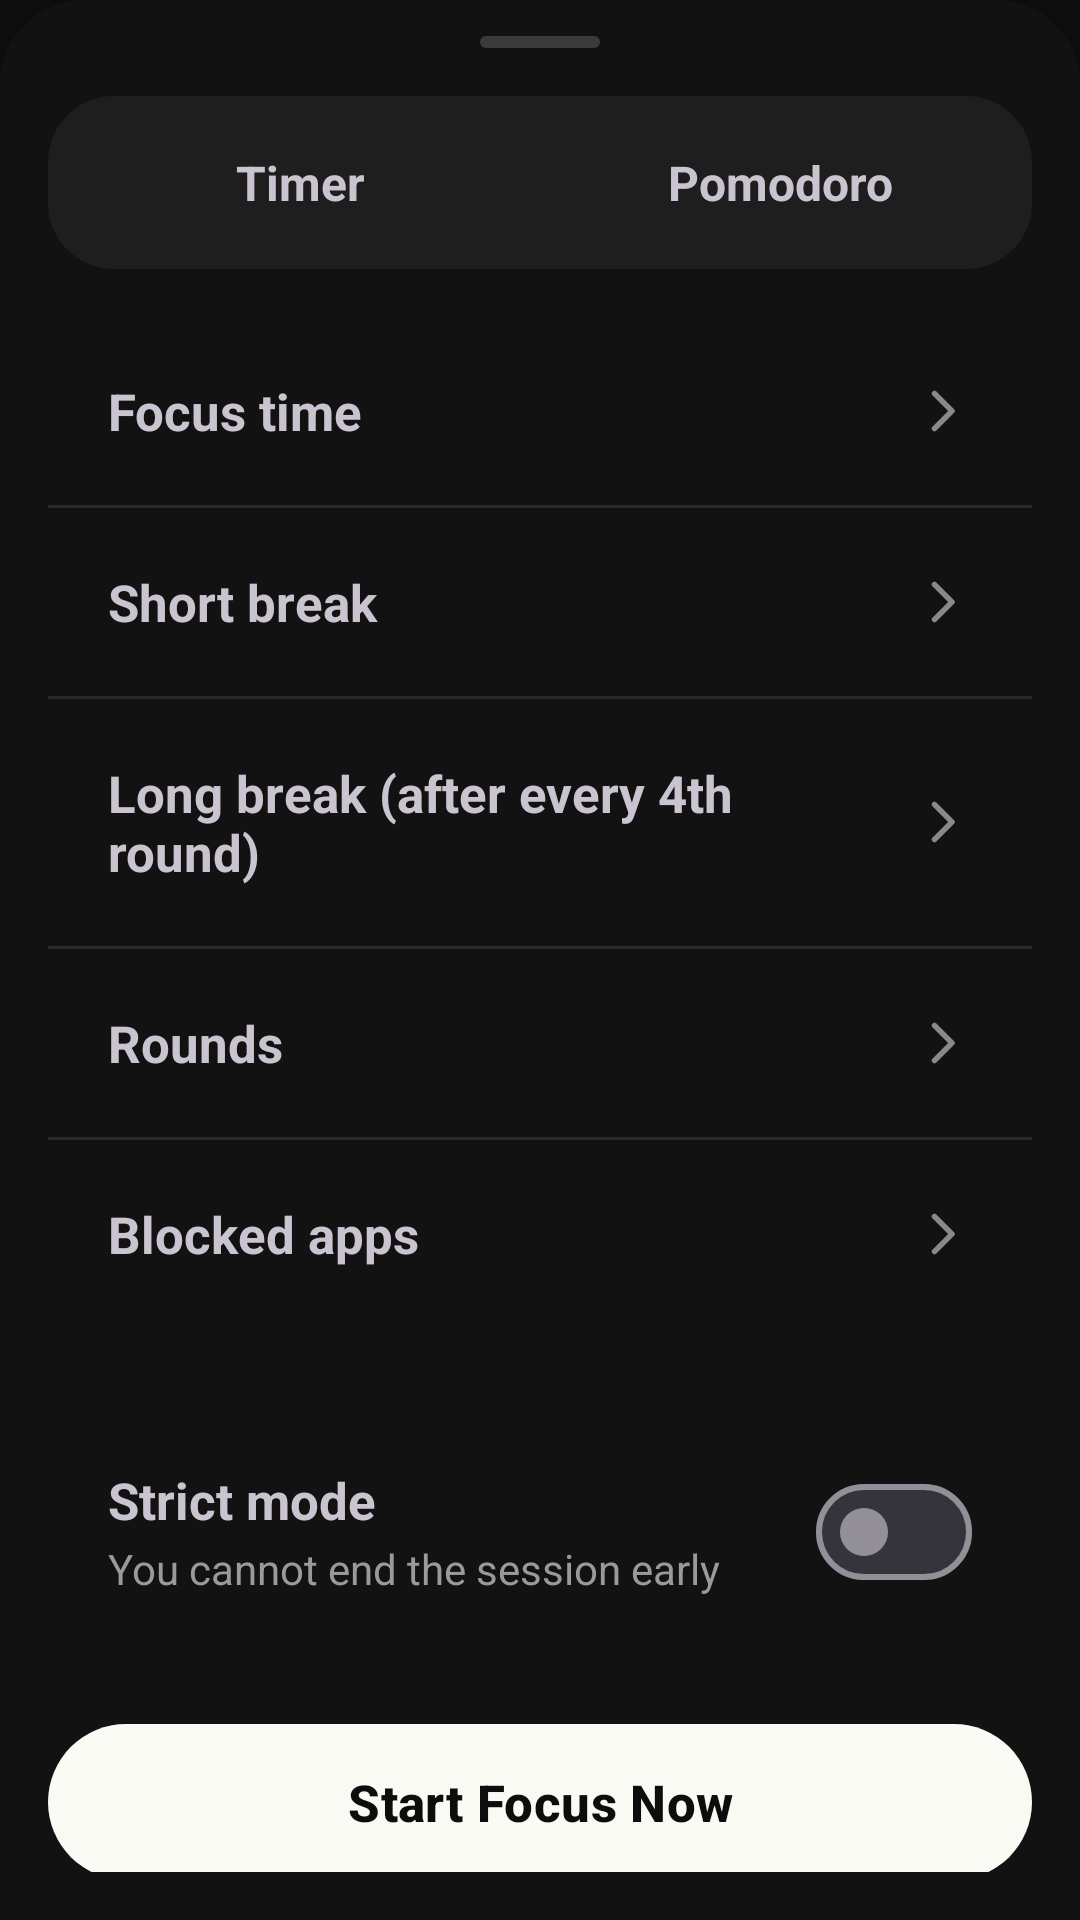

Named icons in this screenshot (1080 x 1920) and their centers, point (x, y):
chevron: point (943, 411), point (943, 602), point (943, 822), point (943, 1043), point (943, 1234)
